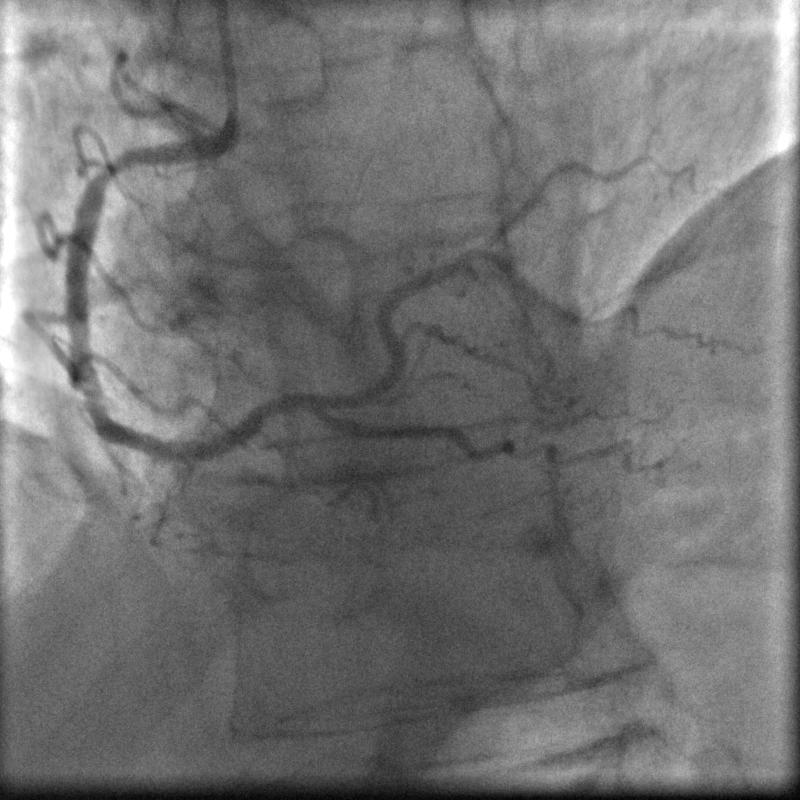Stenosis: (91, 151, 136, 182)
